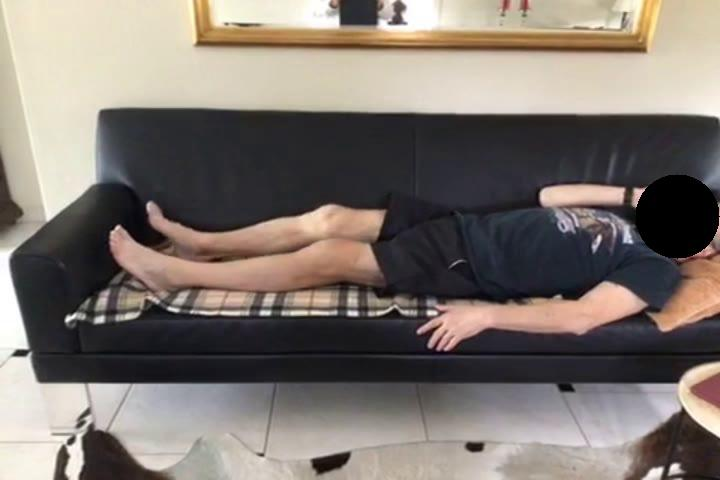lower_body: (110, 197, 487, 301)
